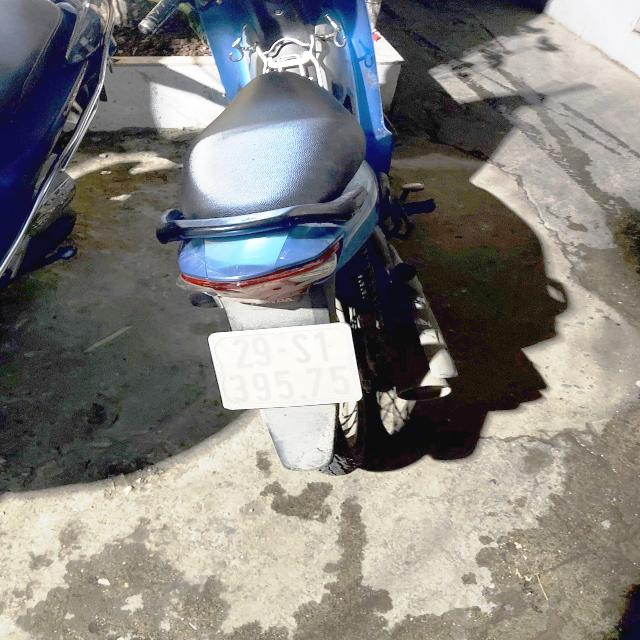license_plate: (201, 324, 368, 413)
